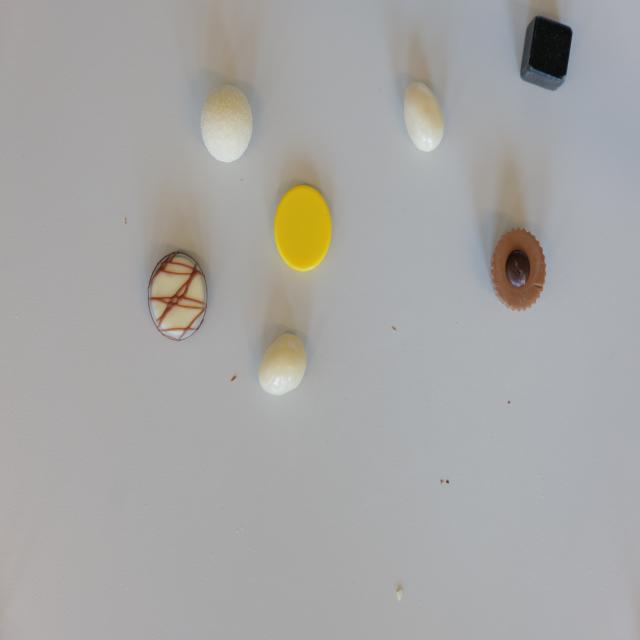Comtesse: (199, 82, 253, 164)
Creme_brulee: (148, 250, 208, 340)
Jelly_White: (257, 331, 306, 394), (403, 80, 445, 151)
Noblesse: (492, 229, 546, 312)
